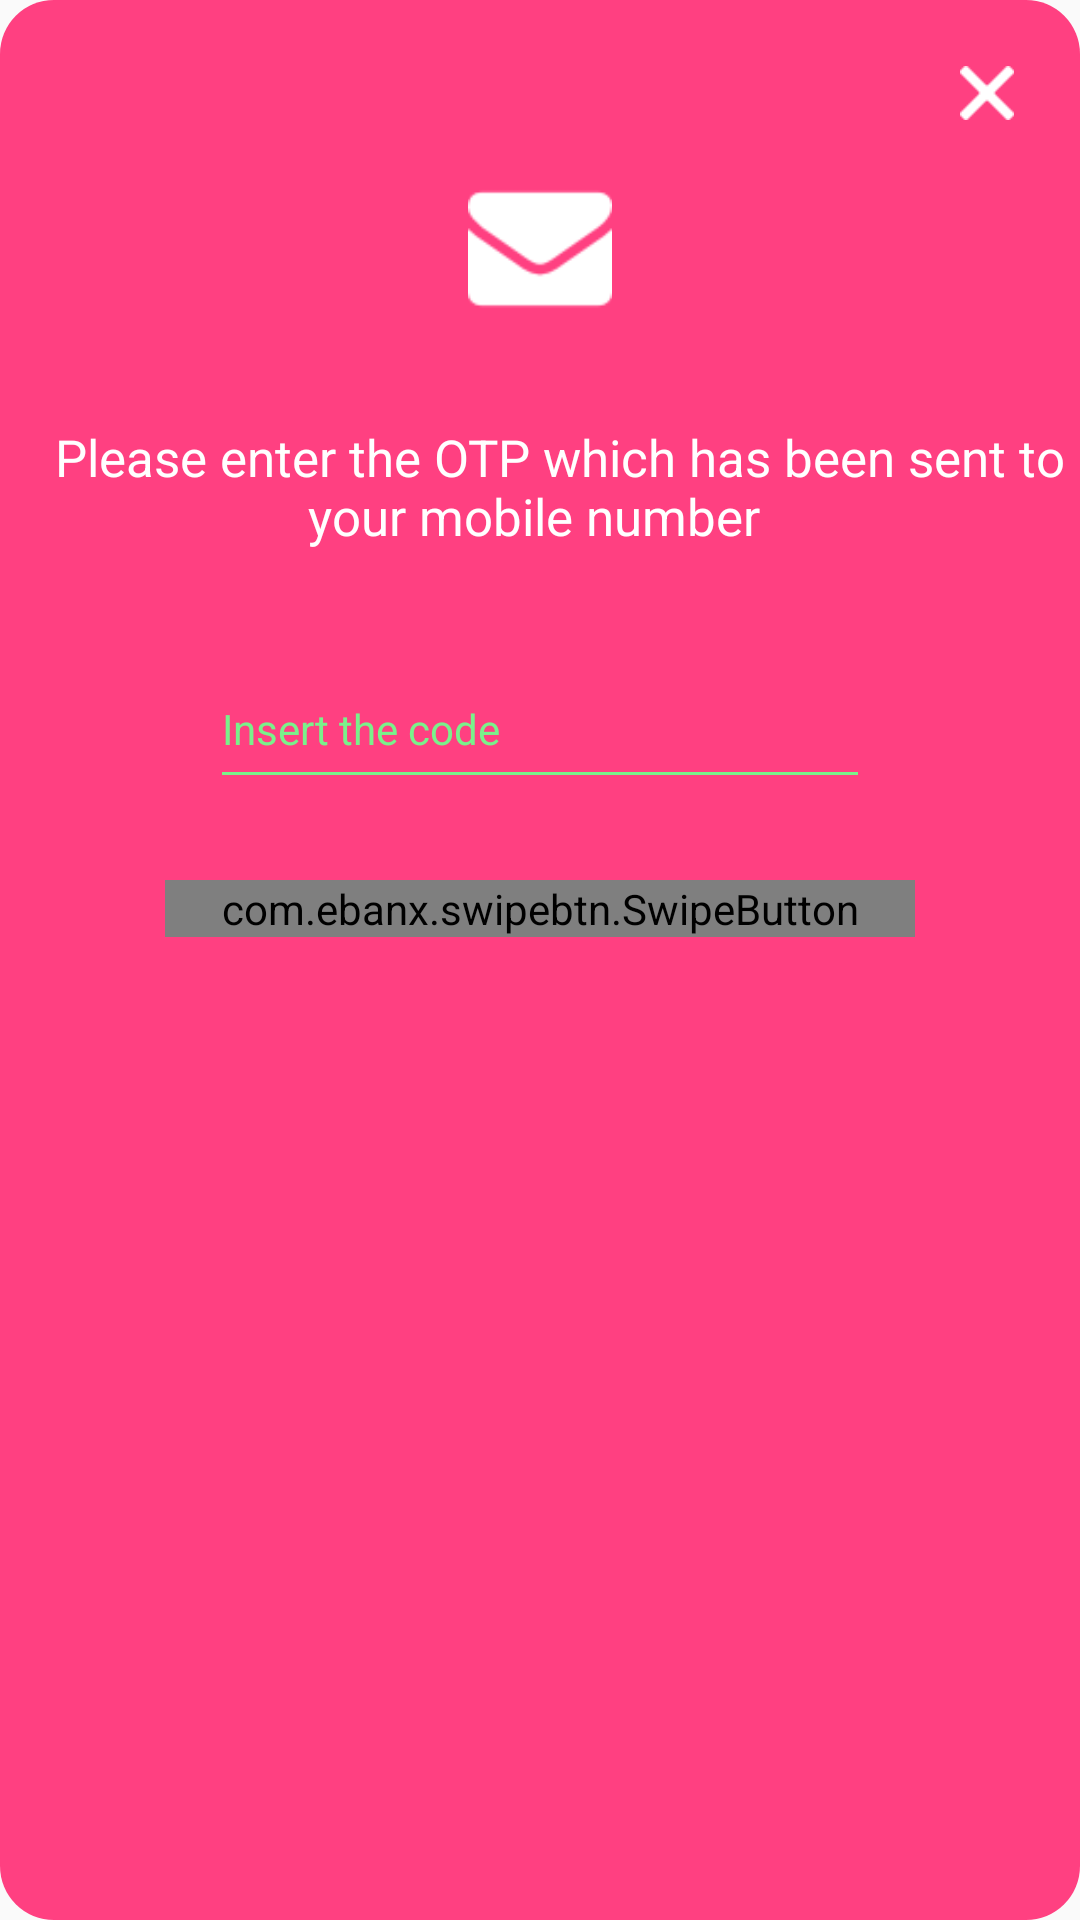

Screen size 1080×1920. Icon name, then its center in pixels as [x,y]:
closing: [987,93]
